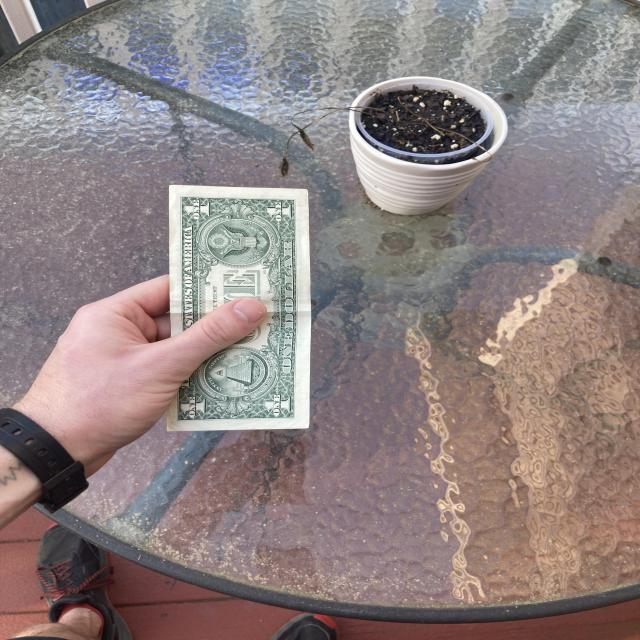one: (168, 186, 312, 430)
